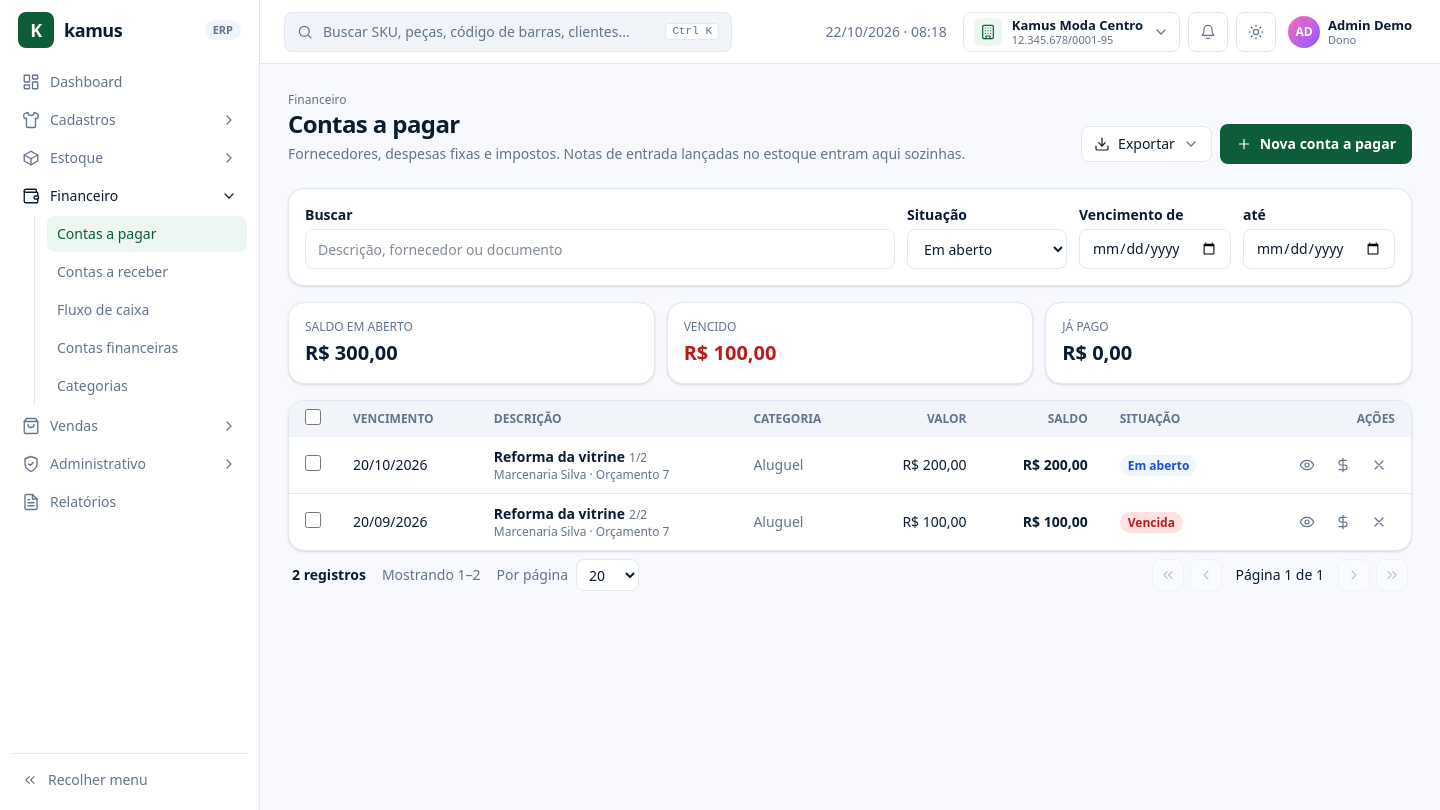
Test: Financeiro → Contas a pagar › ação da linha: cancelar título pede confirmação
Click the button named "Cancelar título Reforma da vitrine 1/2": (1379, 465) [1363,449,1395,481]
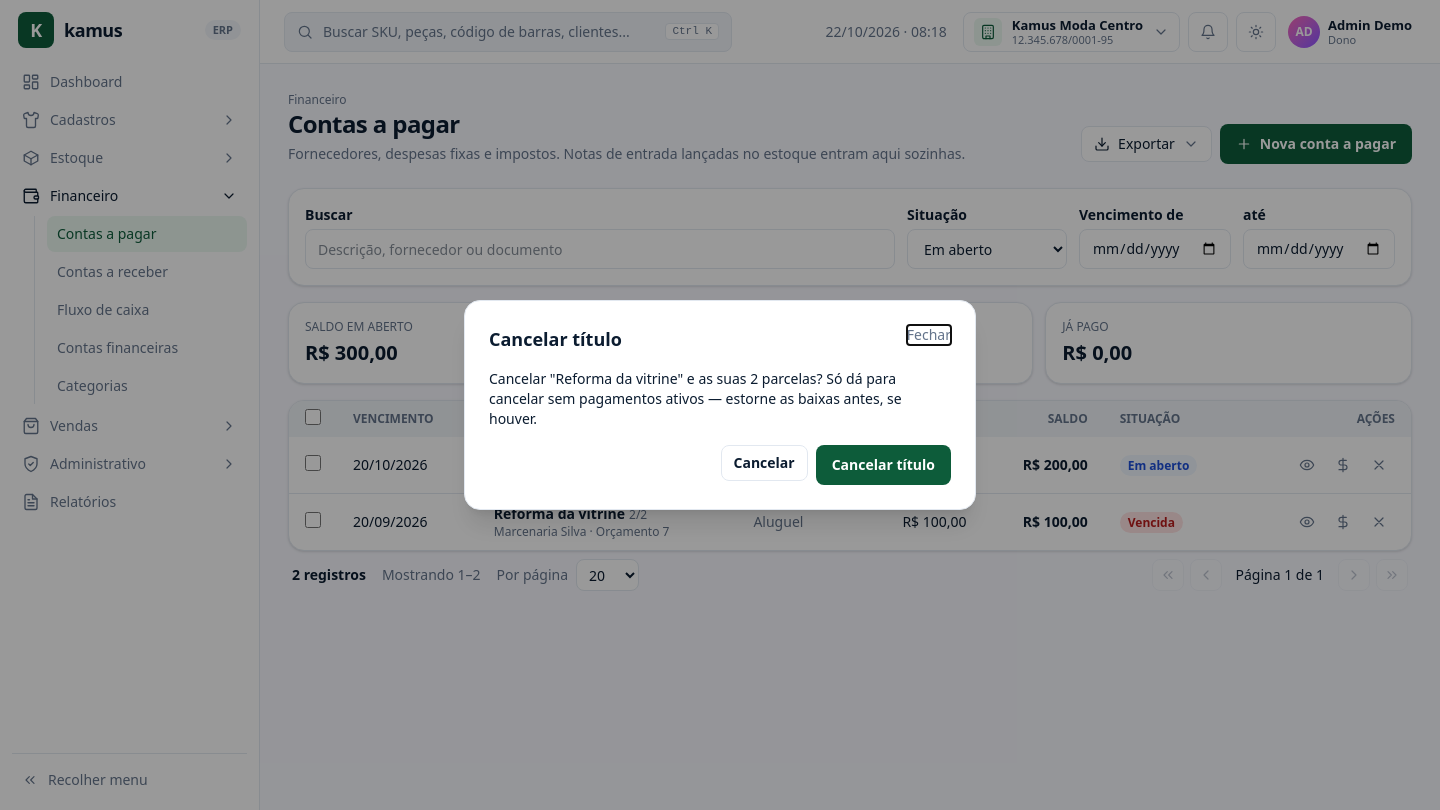
Expected: the dialog "Cancelar título" shows "Reforma da vitrine", [489,369,826,388]
Click the button "Cancelar título": (883, 465) [816,445,951,485]
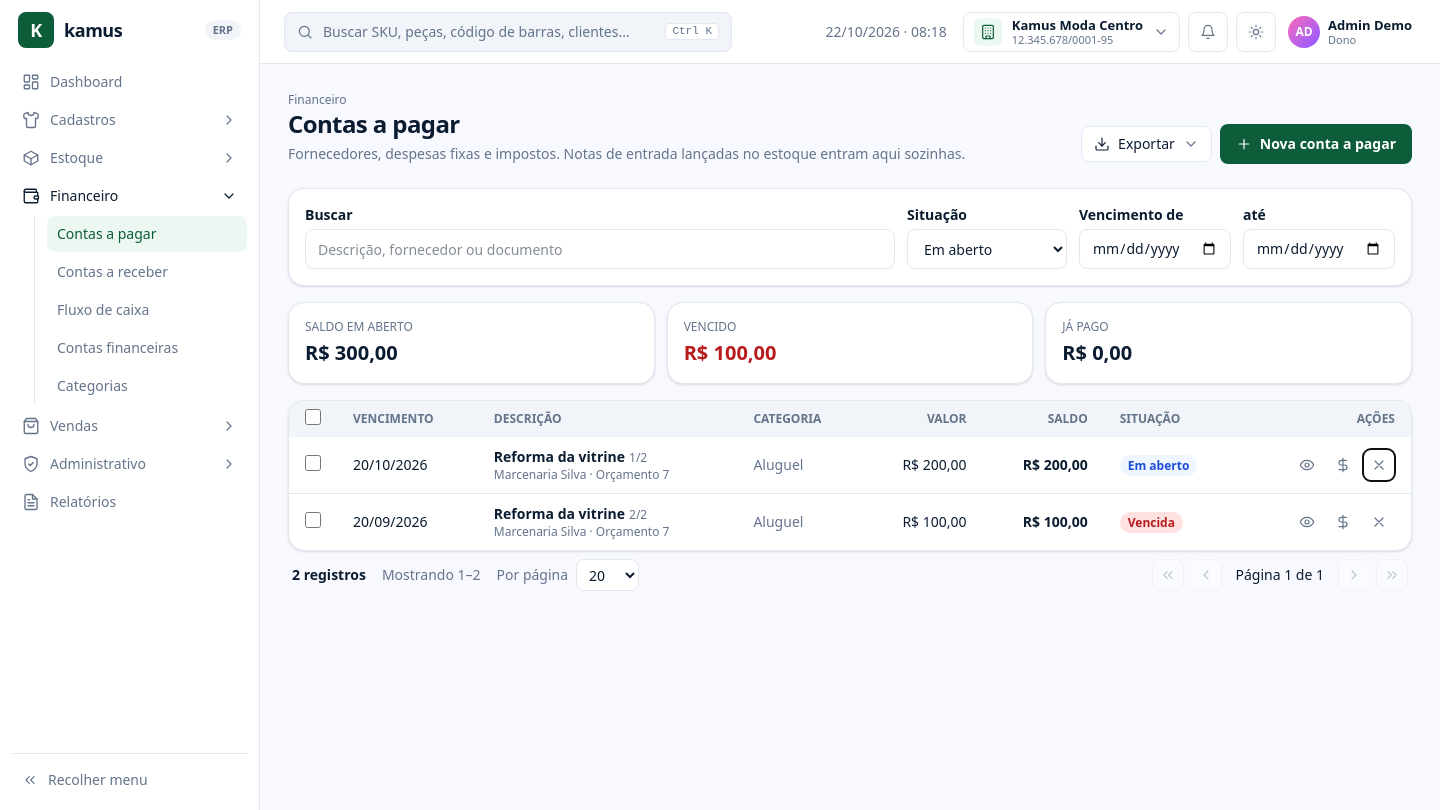
Expected: the dialog is gone
